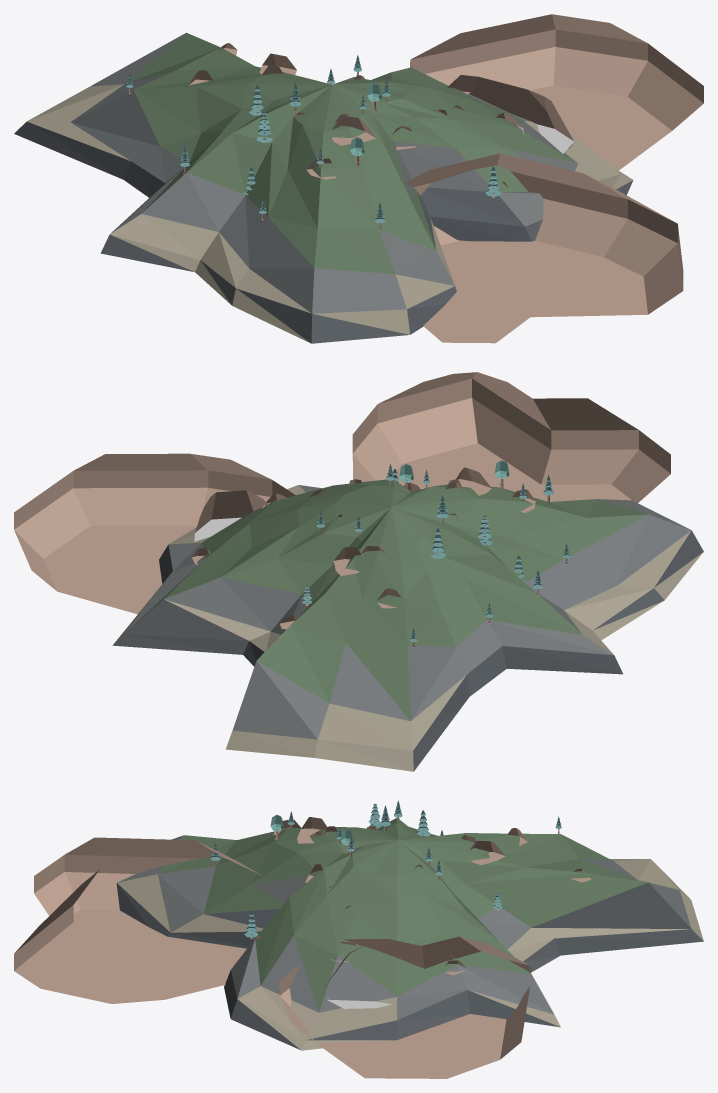
File: fogholms_lod0.glb
The picture shows the model from 3 angles, top to bottom: view 1: azimuth 30°, elevation 25°; view 2: azimuth 150°, elevation 25°; view 3: azimuth 270°, elevation 25°; orthographic projection. The views are drawn at different scales.
Size of the model in its own units: 3.1 by 0.712 by 3.59.
